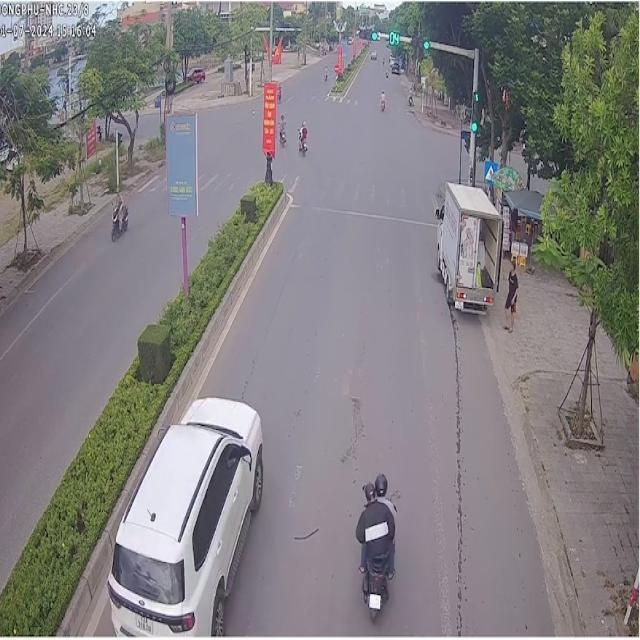car: (106, 397, 260, 636), (430, 180, 500, 311)
green_light: (410, 30, 432, 53), (470, 91, 482, 131), (387, 28, 401, 53), (356, 26, 378, 41)
motobike: (354, 481, 393, 616), (109, 191, 127, 238), (297, 119, 306, 153), (277, 112, 284, 144), (378, 88, 384, 109)
stop_line: (289, 203, 433, 225)
